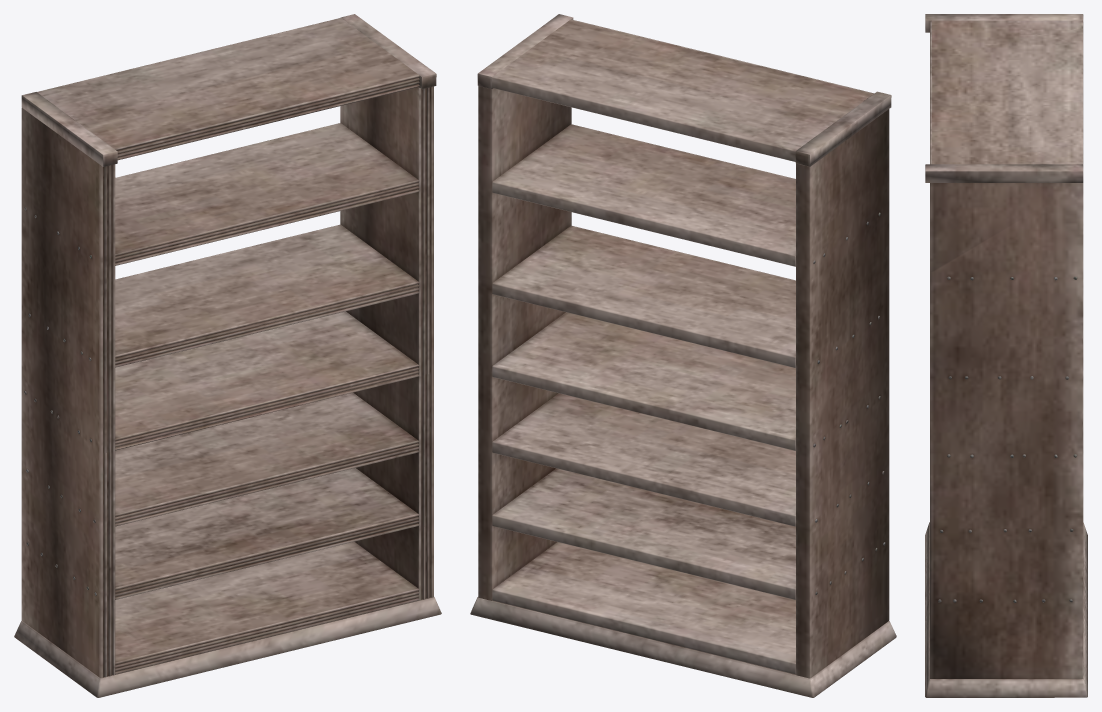
The model's file is bookshelf.glb.
3 renders of one model, left to right at view 1: azimuth 30°, elevation 25°; view 2: azimuth 150°, elevation 25°; view 3: azimuth 270°, elevation 25°, orthographic. The views are drawn at different scales.
Parts seen in each view (by area): view 1: wooden_bookshelf_worn; view 2: wooden_bookshelf_worn; view 3: wooden_bookshelf_worn.
Part boxes in pixels (left/top/right/bottom): wooden_bookshelf_worn: left=14, top=14, right=441, bottom=697; wooden_bookshelf_worn: left=470, top=14, right=896, bottom=697; wooden_bookshelf_worn: left=925, top=14, right=1087, bottom=697.
Size of the model in its own units: 1.37 by 2.06 by 0.5814.
1 material, 1 textured.
